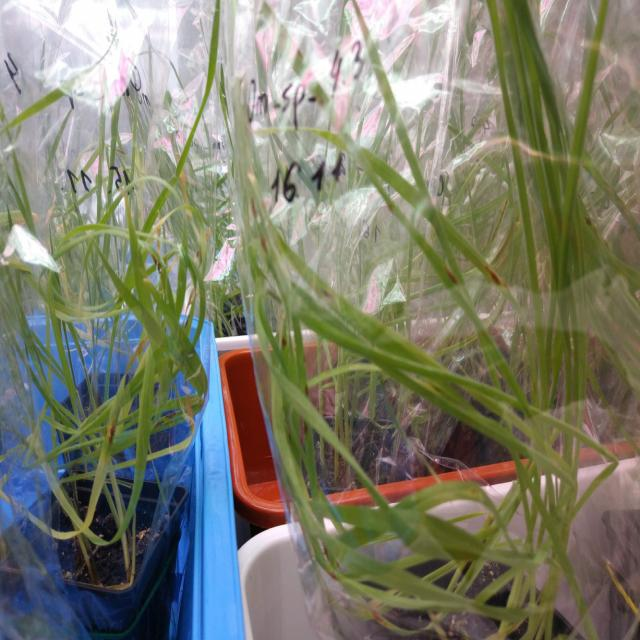wheat-stemrust: (77, 534, 96, 584), (106, 561, 132, 589)
